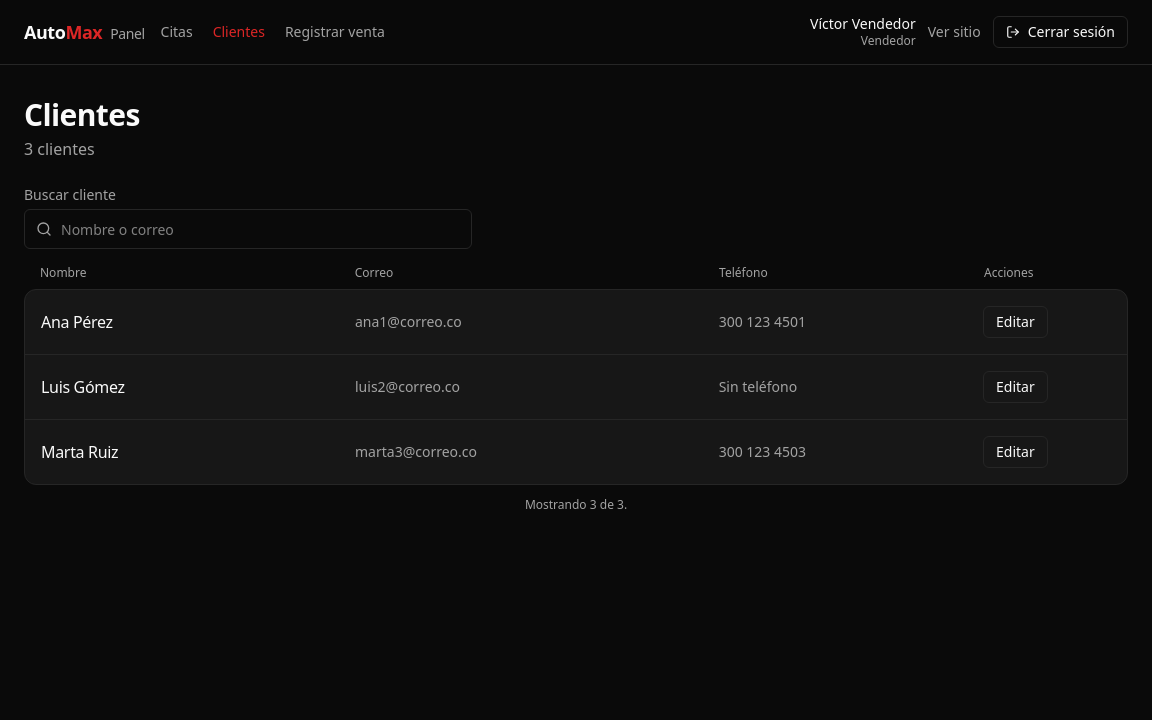
Test: búsqueda de clientes › sin resultados lo dice y "Limpiar búsqueda" la borra
In the search field labelled "Buscar cliente": (248,229) [24,209,472,249], type "zzzz"
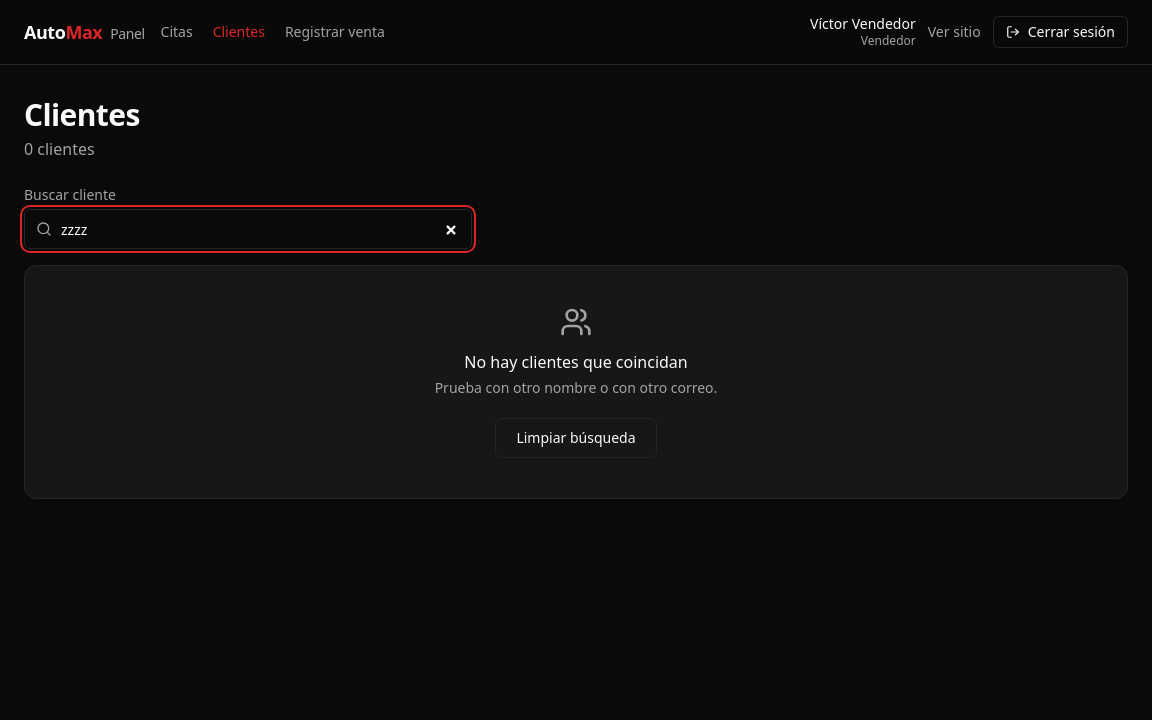
Expected: the text "No hay clientes que coincidan" is shown, [464,351,688,373]
Click the button "Limpiar búsqueda": (576,438) [495,418,656,458]
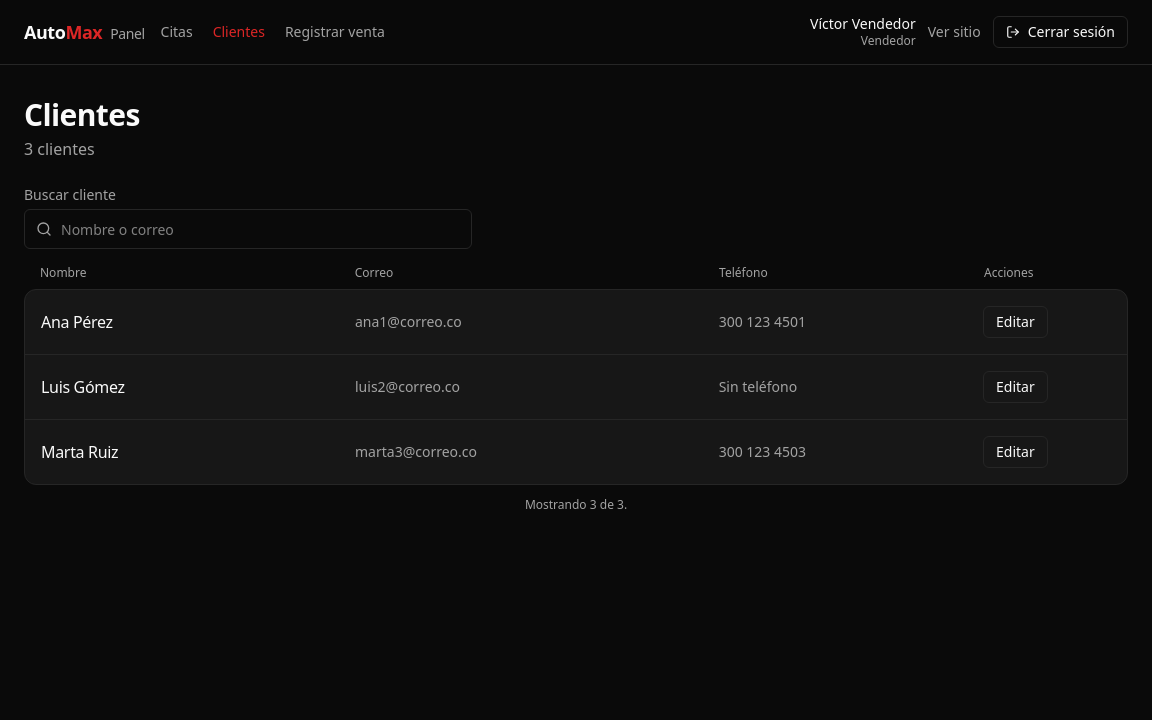
Expected: the search field labelled "Buscar cliente" is empty, [24,209,472,249]
